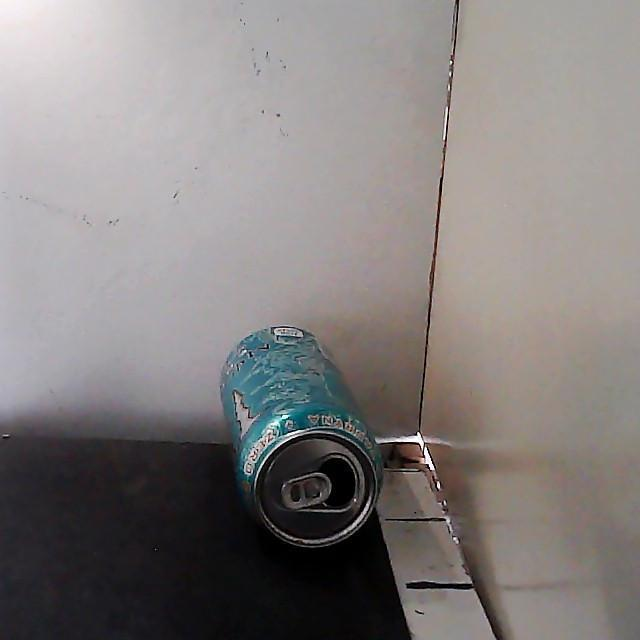metal: (220, 327, 382, 546)
